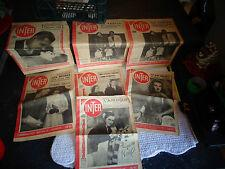paper: (6, 20, 184, 169)
